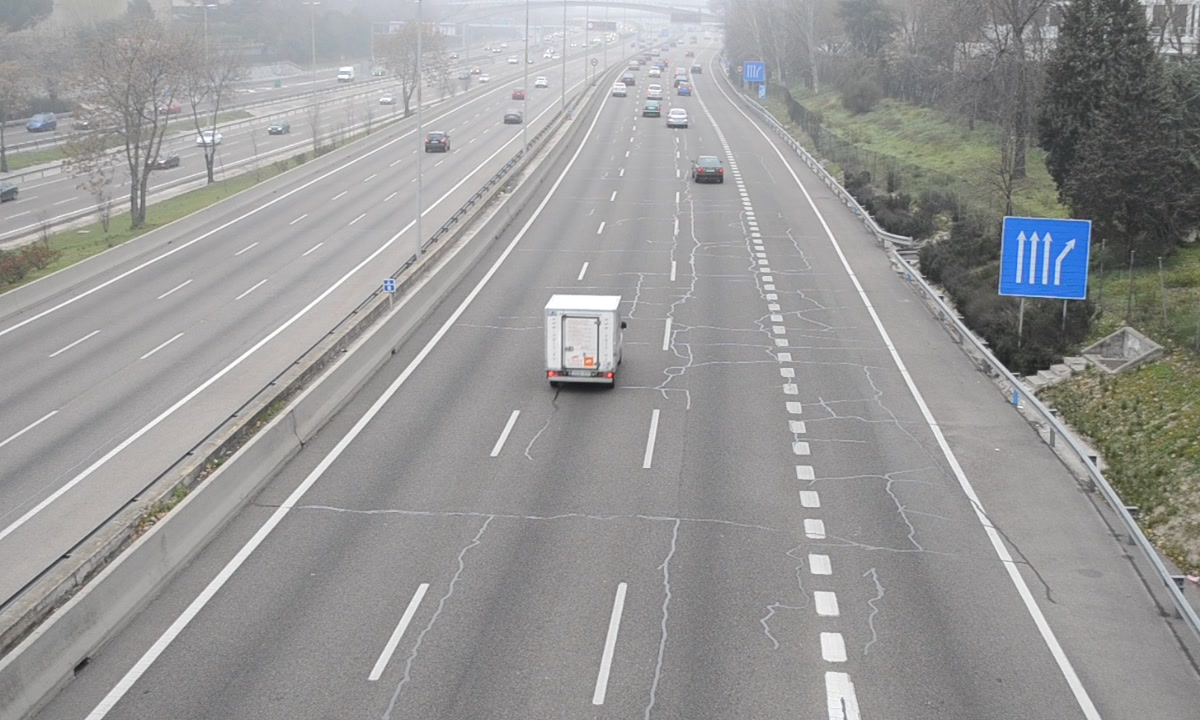car: (693, 153, 726, 183)
small-truck: (545, 296, 625, 384)
